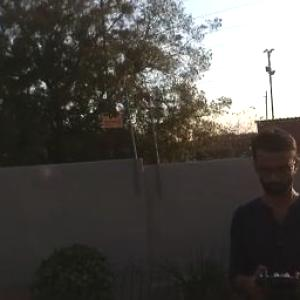follow: (224, 118, 299, 299)
